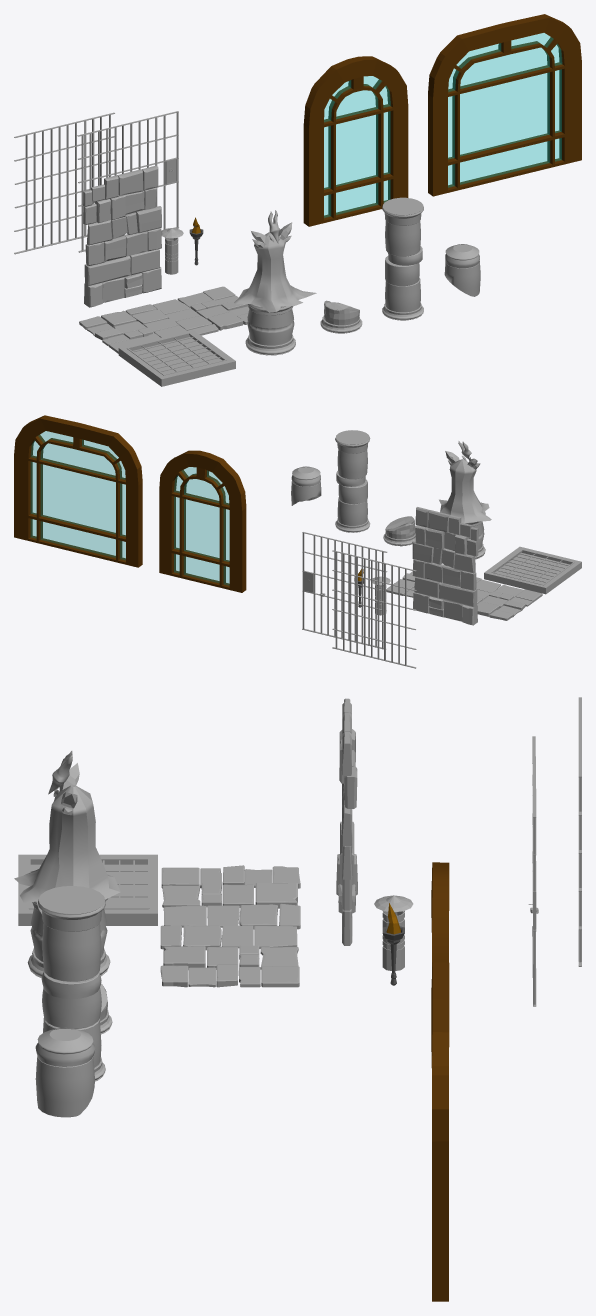
Rendered from No_Destruibles.fbx.
The picture shows the model from 3 angles, top to bottom: view 1: azimuth 30°, elevation 25°; view 2: azimuth 150°, elevation 25°; view 3: azimuth 270°, elevation 25°; orthographic projection. The views are drawn at different scales.
Parts seen in each view (by area): view 1: polySurface429, polySurface256, pasted__polySurface18, polySurface268, polySurface279, polySurface216, polySurface427, polySurface398, polySurface292, polySurface377, polySurface273, polySurface281 (+1 smaller); view 2: polySurface429, polySurface256, pasted__polySurface18, polySurface398, polySurface427, polySurface279, polySurface216, polySurface268, polySurface377, polySurface273, polySurface281, polySurface292; view 3: polySurface279, polySurface292, polySurface377, polySurface268, polySurface429, polySurface273, polySurface216, pasted__polySurface18, polySurface256, polySurface369, polySurface398, polySurface427.
Boxes of the visible parts, box(x1,y1,x2,y2) form: polySurface429: box(428, 14, 581, 196); polySurface256: box(303, 56, 408, 226); pasted__polySurface18: box(83, 165, 161, 307); polySurface268: box(234, 210, 316, 355); polySurface279: box(382, 197, 423, 320); polySurface216: box(118, 330, 235, 386); polySurface427: box(14, 112, 114, 254); polySurface398: box(77, 111, 178, 252); polySurface292: box(152, 286, 249, 335); polySurface377: box(79, 304, 186, 353); polySurface273: box(444, 244, 480, 296); polySurface281: box(320, 300, 362, 333); polySurface429: box(14, 415, 142, 567); polySurface256: box(159, 450, 246, 592); pasted__polySurface18: box(412, 507, 478, 625); polySurface398: box(302, 532, 387, 649); polySurface427: box(332, 550, 416, 668); polySurface279: box(335, 430, 370, 532); polySurface216: box(484, 546, 581, 594); polySurface268: box(439, 441, 491, 559); polySurface377: box(476, 579, 542, 620); polySurface273: box(291, 466, 321, 505); polySurface281: box(383, 516, 415, 546); polySurface292: box(386, 571, 481, 597); polySurface279: box(38, 886, 105, 1081); polySurface292: box(160, 925, 299, 987); polySurface377: box(161, 865, 300, 929); polySurface268: box(14, 751, 120, 977); polySurface429: box(431, 962, 449, 1301); polySurface273: box(35, 1027, 95, 1117); polySurface216: box(18, 854, 157, 925); pasted__polySurface18: box(336, 698, 357, 945); polySurface256: box(431, 862, 449, 966); polySurface369: box(374, 895, 413, 970); polySurface398: box(528, 736, 538, 1006); polySurface427: box(578, 697, 581, 966).
Size of the model in its own units: 1103 by 300 by 609.
